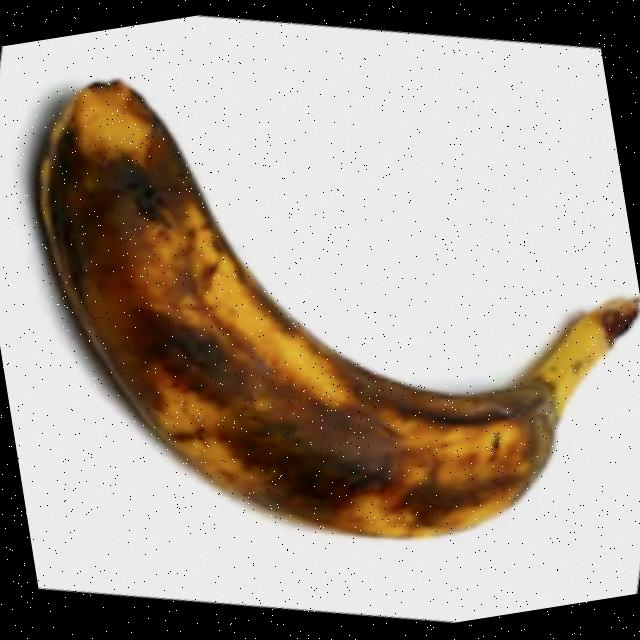overripe: (14, 5, 635, 596)
